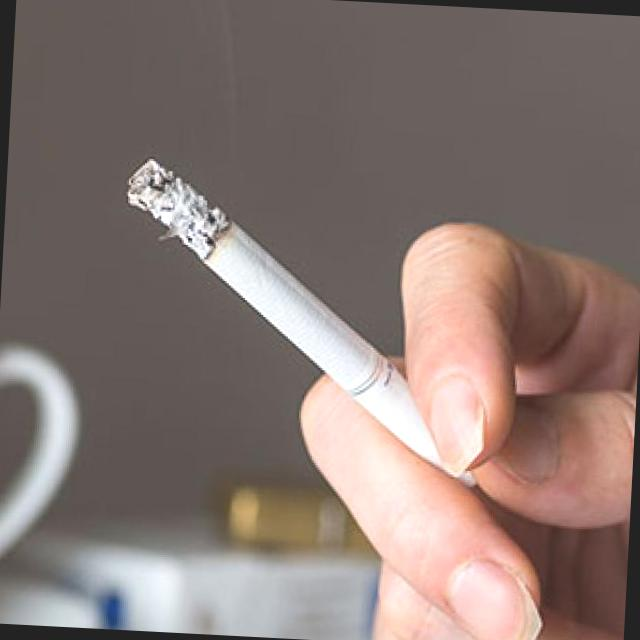cigarette: (110, 150, 432, 437)
